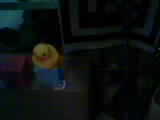duck: (26, 37, 57, 74)
